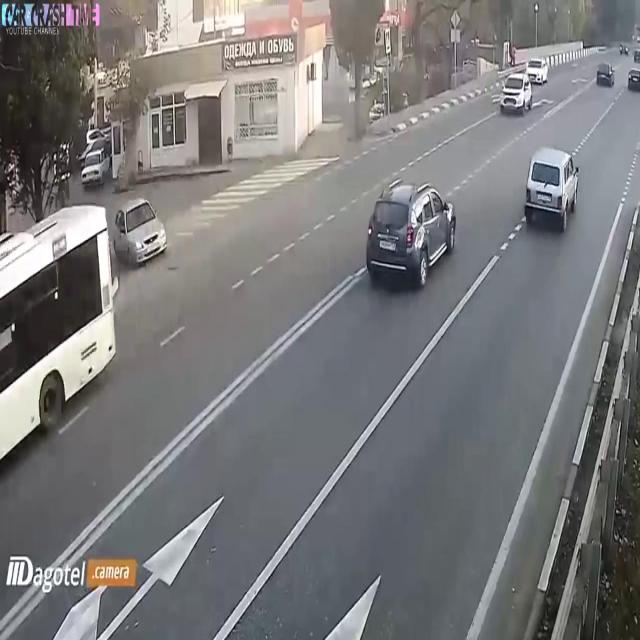non_accident: (0, 186, 170, 497), (494, 51, 550, 122), (65, 120, 115, 190)
